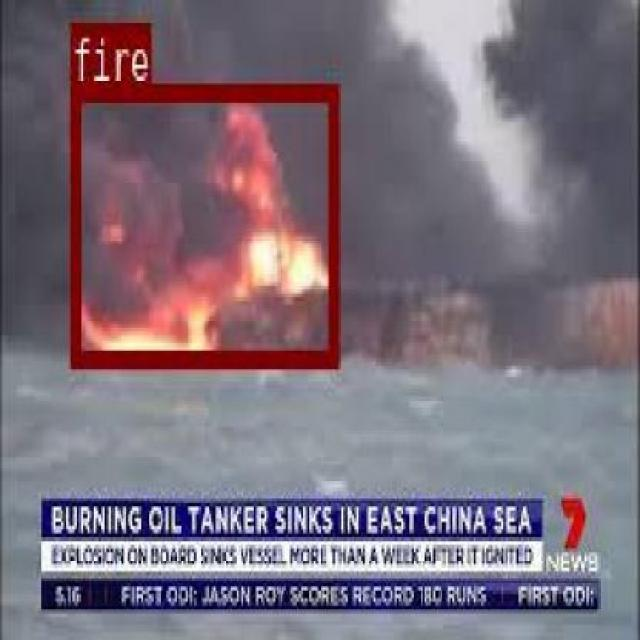Fire: (70, 84, 336, 362)
Smoke: (502, 7, 632, 274)
